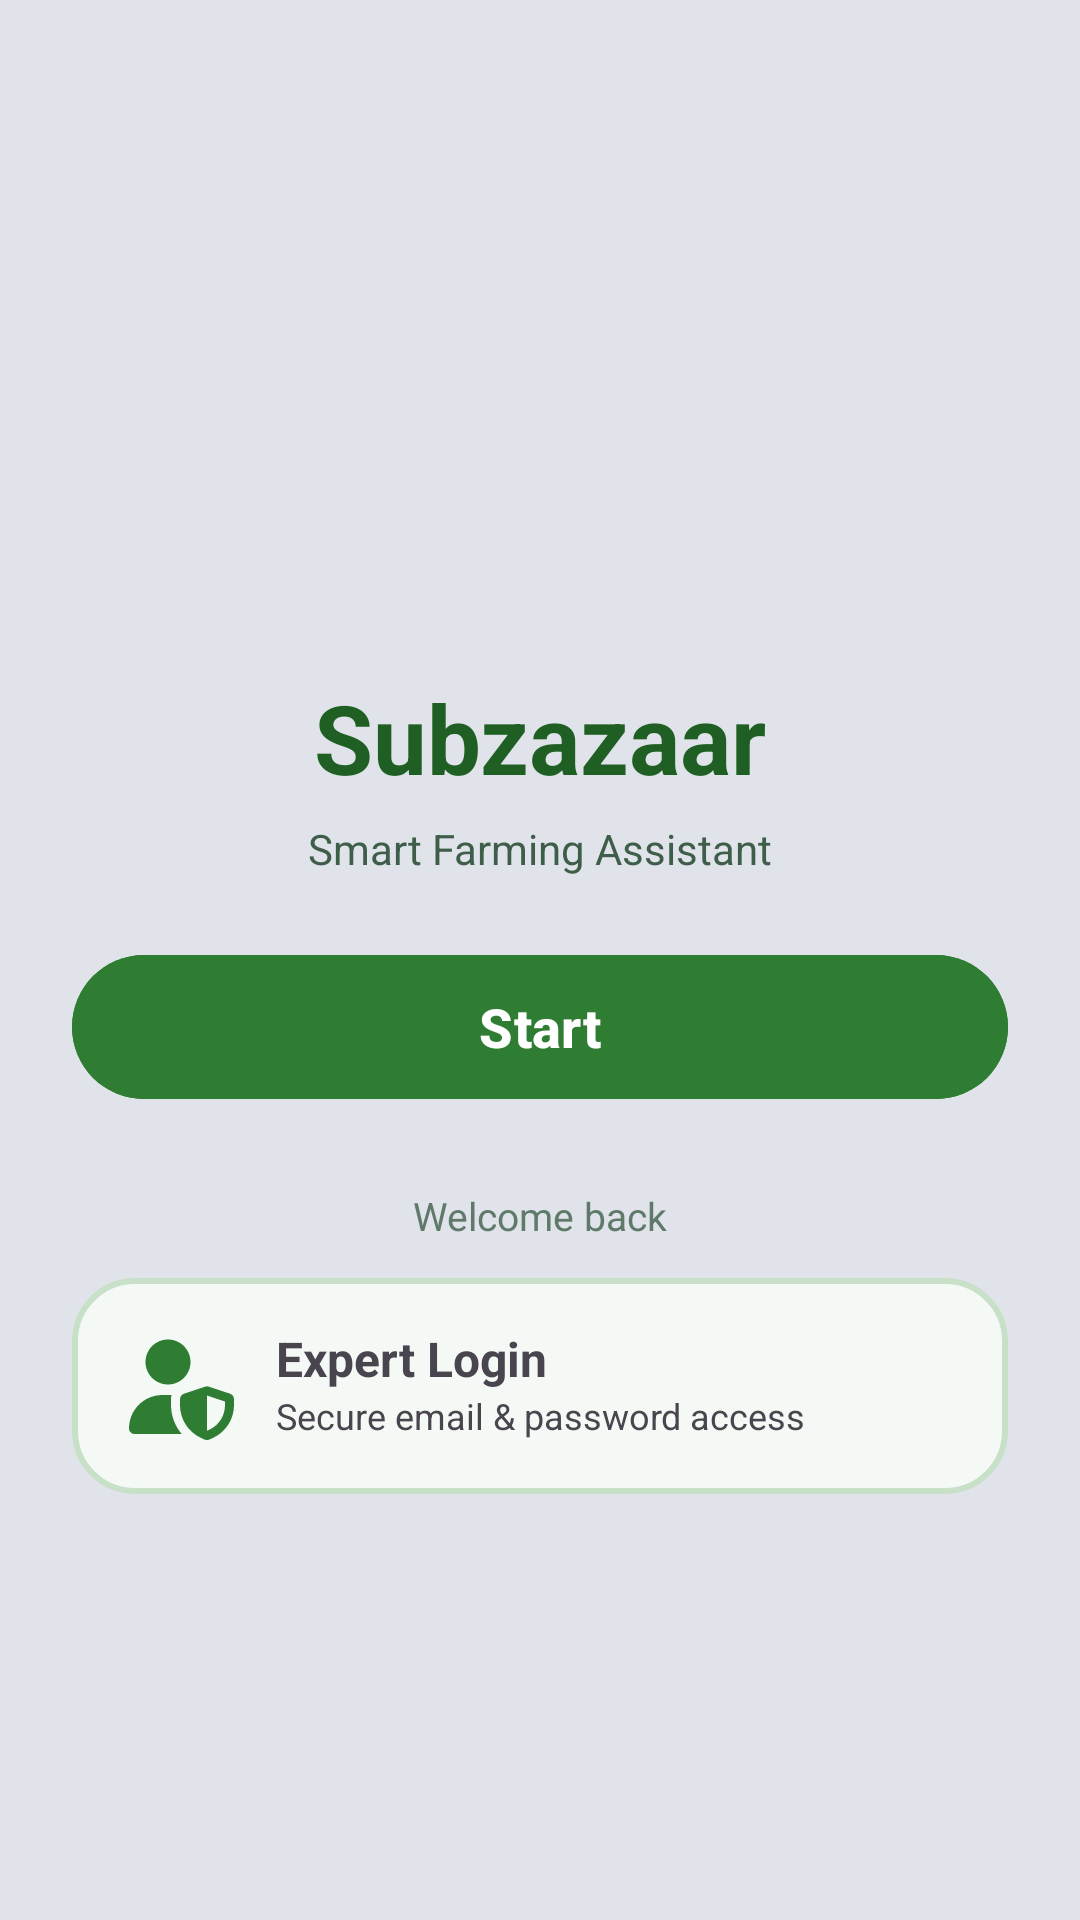

Icons on this 1080w x 1920h Android screen, each with its box as rect(x1, y1, x2, y2):
user shield: rect(129, 1339, 234, 1440)
